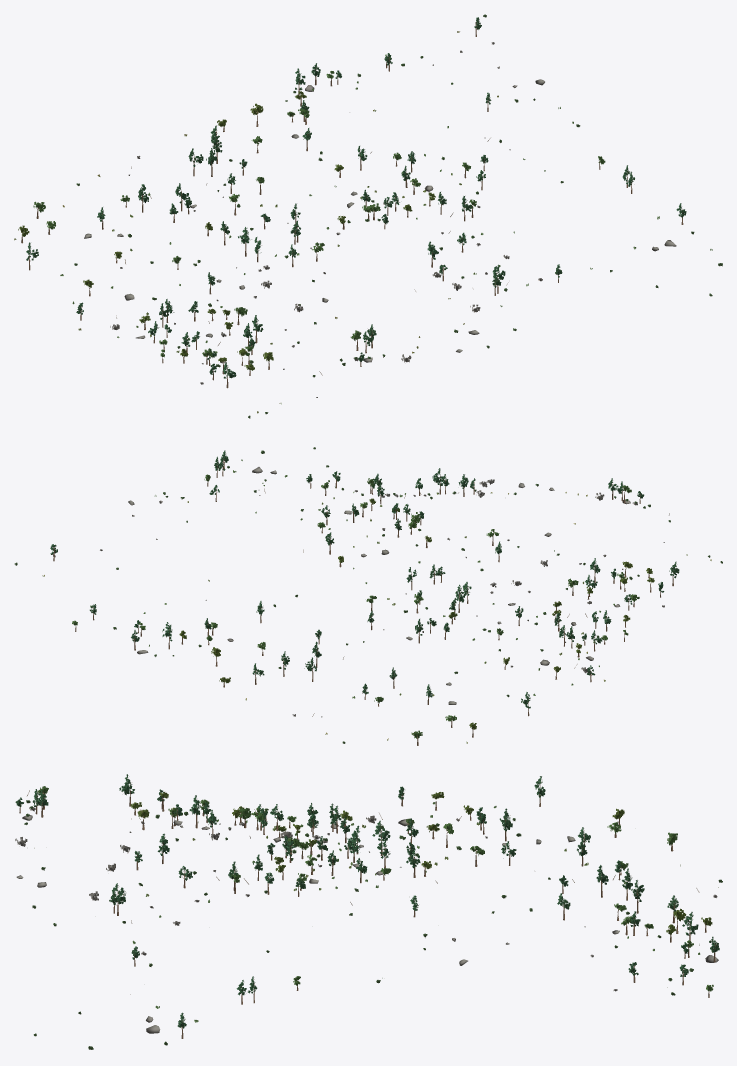
The model's file is arch_land_scatter_c20_19.glb.
3 views of the same model, one above another, from view 1: azimuth 30°, elevation 25°; view 2: azimuth 150°, elevation 25°; view 3: azimuth 270°, elevation 25° (orthographic). The views are drawn at different scales.
Parts seen in each view (by area): view 1: arch_land_scatter_c20_19; view 2: arch_land_scatter_c20_19; view 3: arch_land_scatter_c20_19.
Boxes of the visible parts, x1=… form: arch_land_scatter_c20_19: x1=14, y1=14, x2=722, y2=418; arch_land_scatter_c20_19: x1=14, y1=447, x2=722, y2=745; arch_land_scatter_c20_19: x1=15, y1=774, x2=722, y2=1049.
Bounding box in the file's own units: 255 × 58.32 × 258.
